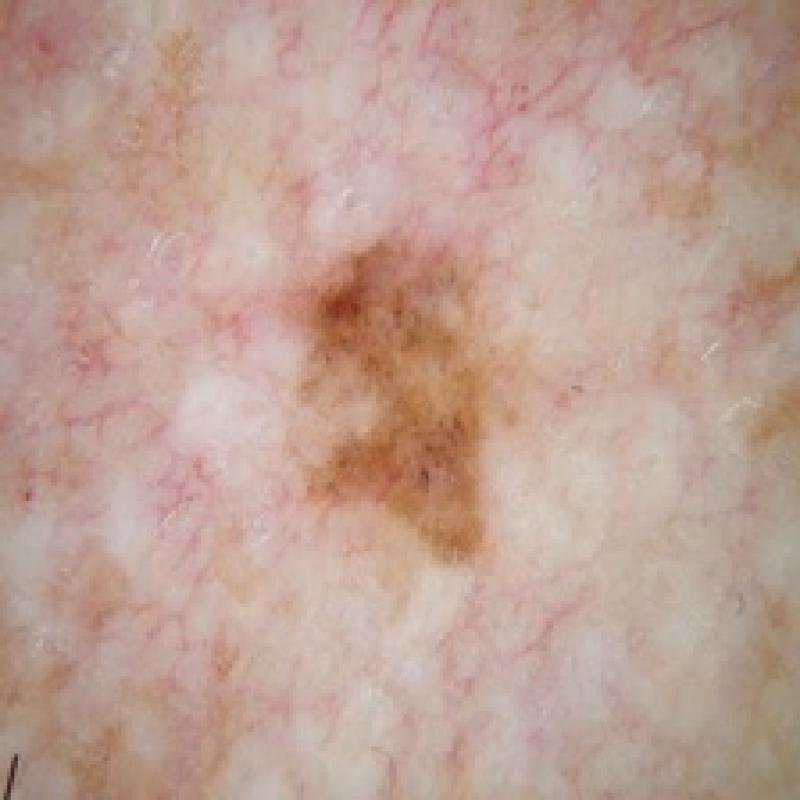malignant: (247, 179, 550, 591)
